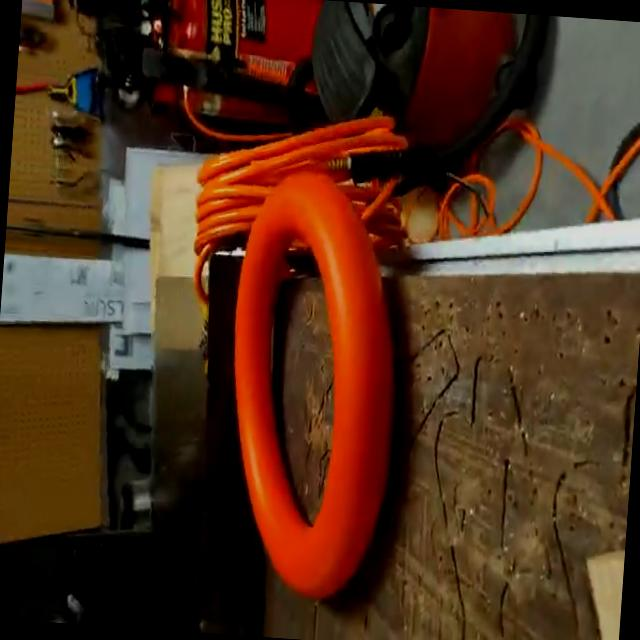note: (213, 160, 410, 610)
